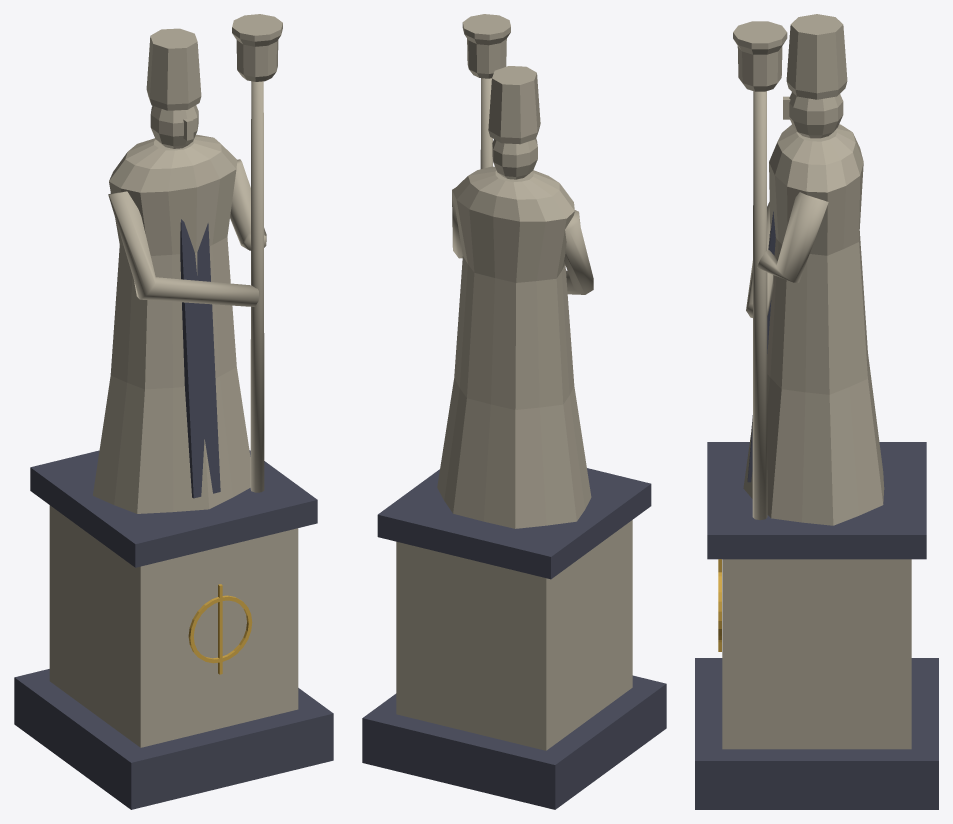
Rendered from statue.glb.
The picture shows the model from 3 angles, left to right: view 1: azimuth 30°, elevation 25°; view 2: azimuth 150°, elevation 25°; view 3: azimuth 270°, elevation 25°; orthographic projection. The views are drawn at different scales.
Visible parts, largest first — view 1: Statue; view 2: Statue; view 3: Statue.
Part boxes in pixels (box(x1,y1,x2,y2)): Statue: box(14, 14, 333, 809); Statue: box(362, 14, 666, 809); Statue: box(695, 14, 938, 809).
Size of the model in its own units: 1.8 by 6.15 by 1.8.
